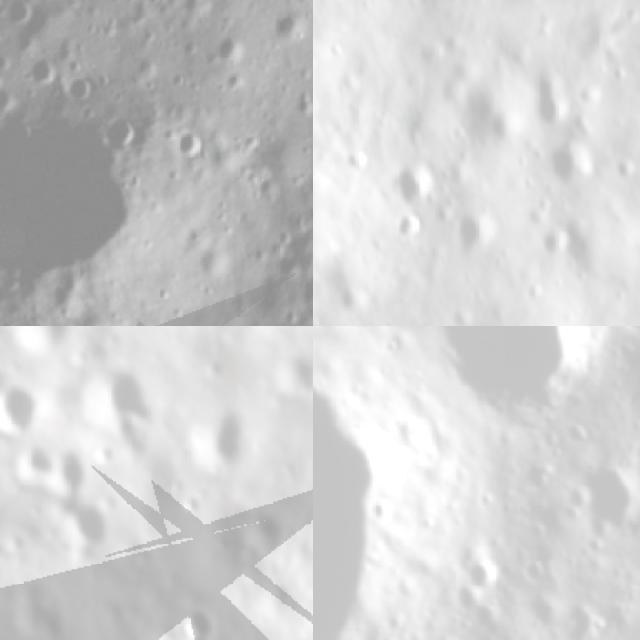crater: (77, 365, 151, 446), (532, 129, 607, 205), (441, 200, 510, 272), (518, 68, 584, 143), (379, 152, 451, 218), (194, 401, 249, 473), (56, 496, 116, 552), (237, 500, 292, 551), (328, 273, 377, 324), (527, 218, 575, 270), (0, 376, 40, 435), (270, 345, 313, 398), (48, 445, 92, 496), (267, 3, 313, 51), (97, 108, 144, 154), (10, 326, 76, 357), (382, 202, 426, 248), (15, 439, 56, 488), (164, 124, 212, 165), (209, 25, 247, 73), (19, 54, 61, 90), (178, 605, 212, 640), (0, 0, 40, 28), (606, 157, 640, 186), (177, 489, 209, 518), (207, 528, 231, 556), (5, 527, 29, 554), (50, 317, 93, 326), (66, 633, 85, 640)
